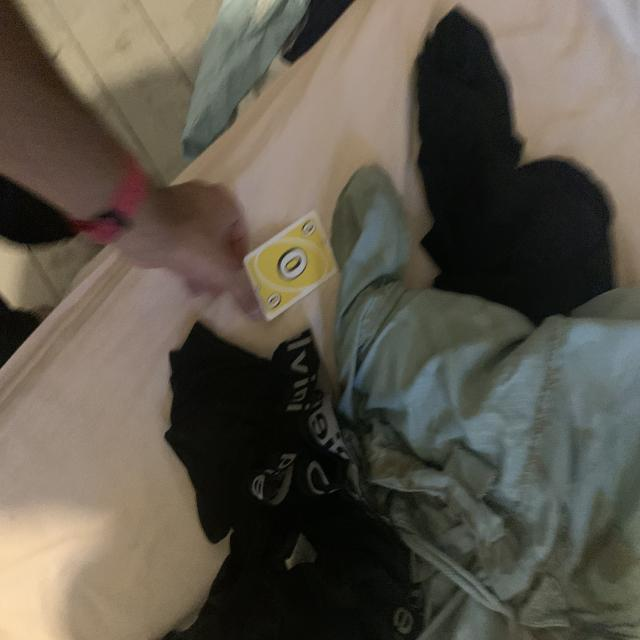lyellow-0: (298, 215, 320, 241)
